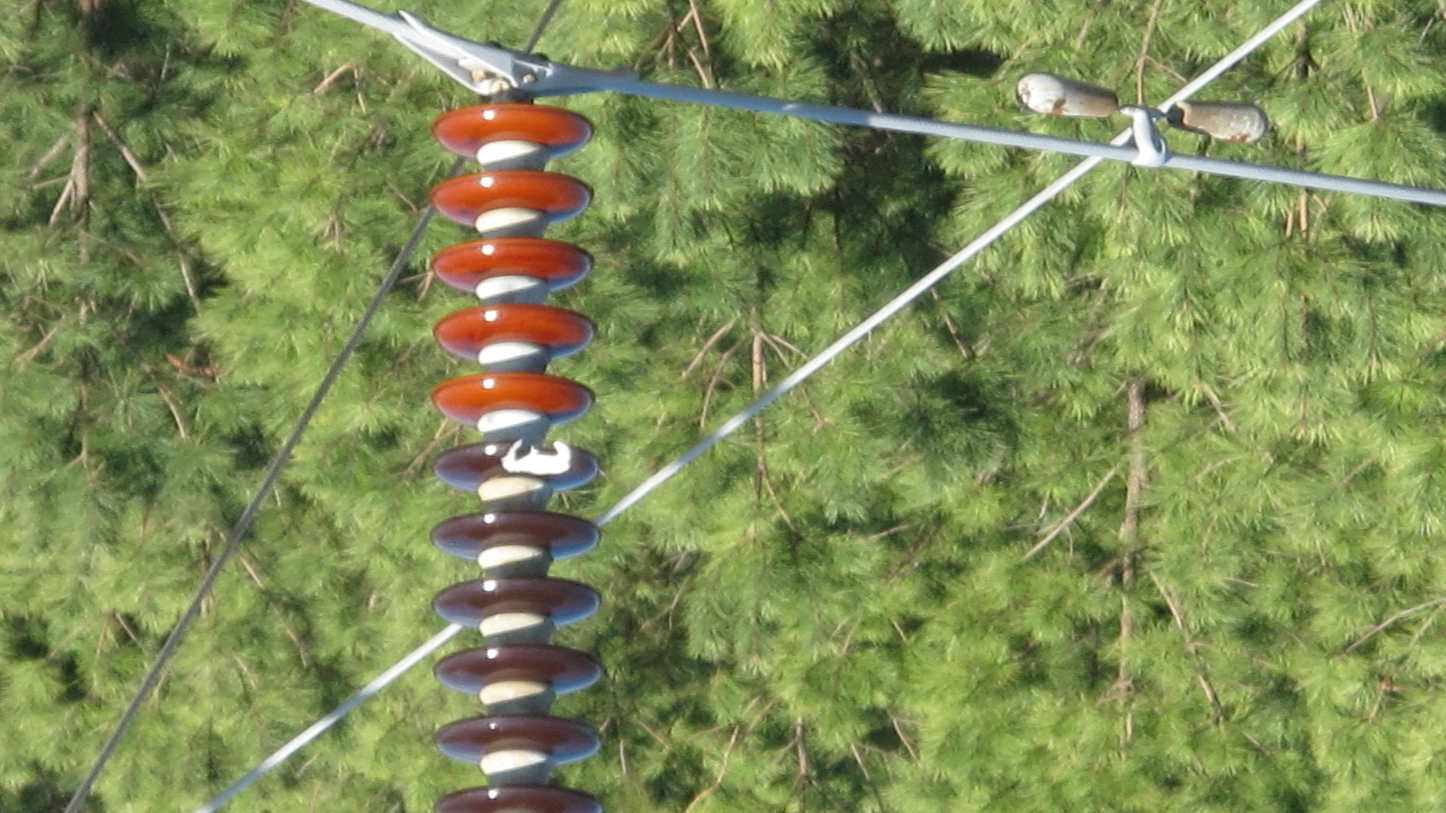insulator: (419, 99, 613, 813)
insulator_breakage: (497, 437, 578, 480)
